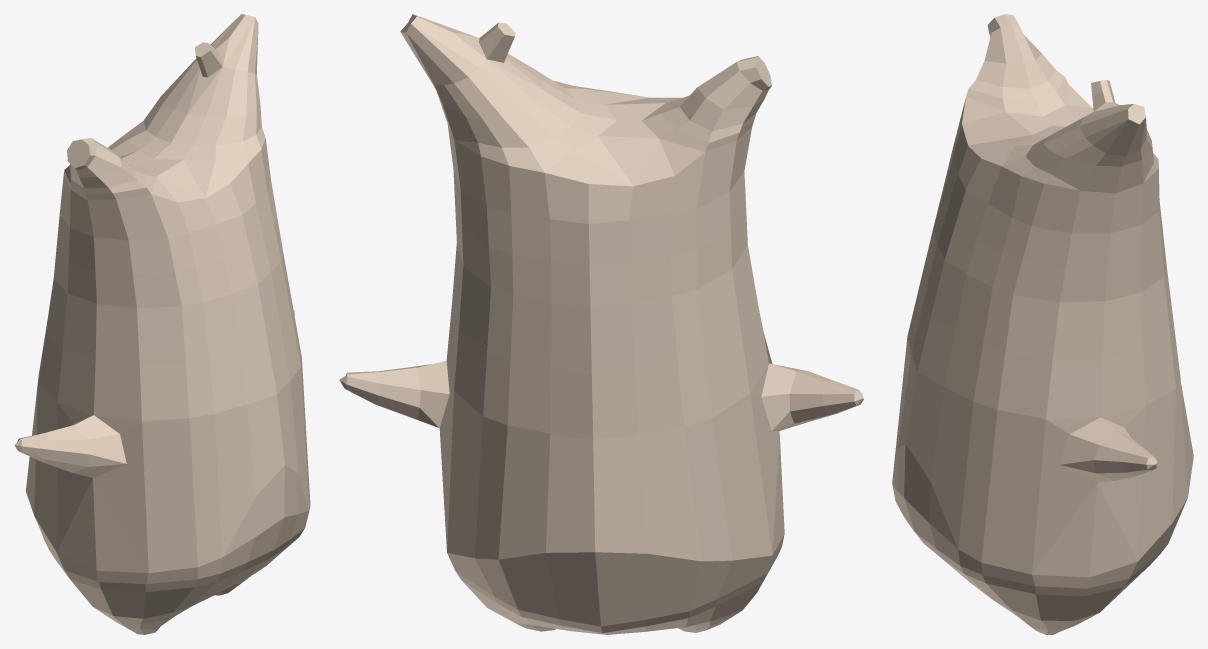
File: frame_0064.obj
3 views of the same model, side by side, from view 1: azimuth 30°, elevation 25°; view 2: azimuth 150°, elevation 25°; view 3: azimuth 270°, elevation 25° (orthographic). The views are drawn at different scales.
Parts seen in each view (by area): view 1: korok; view 2: korok; view 3: korok.
Part boxes in pixels (x1,y1,x2,y2): korok: (14,14,310,634); korok: (339,14,863,634); korok: (892,14,1193,634).
Bounding box in the file's own units: 1.51 × 2.14 × 1.04.
